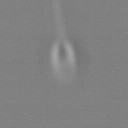normal: (47, 1, 69, 39)
